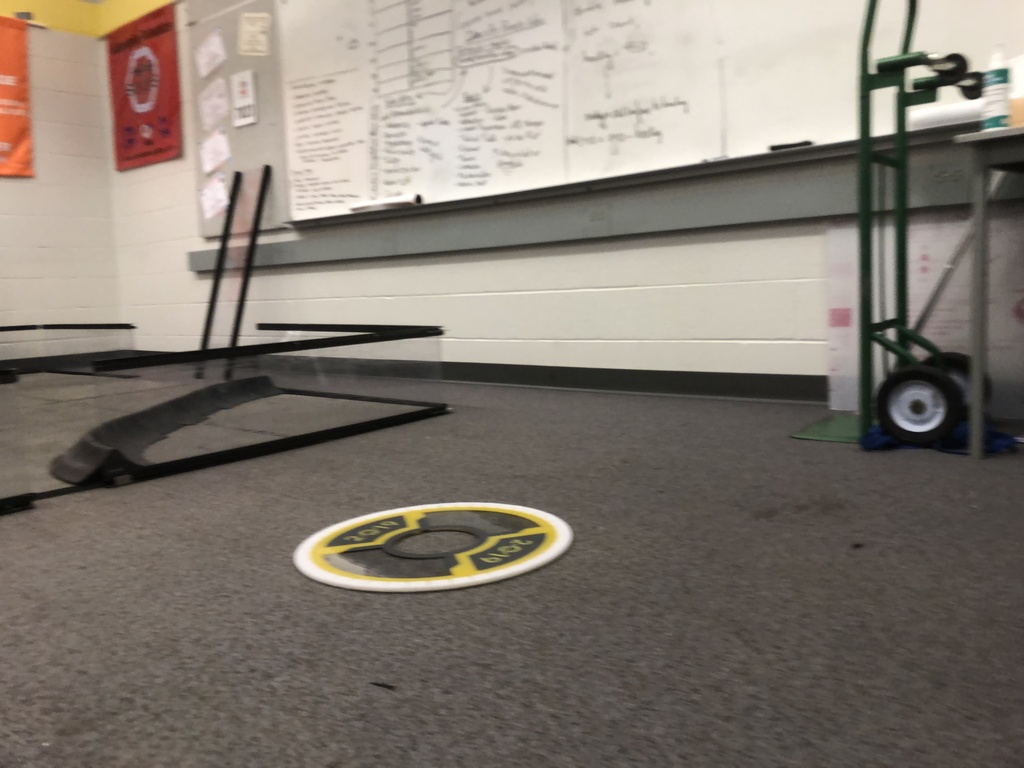hatch_panel: (283, 491, 577, 603)
